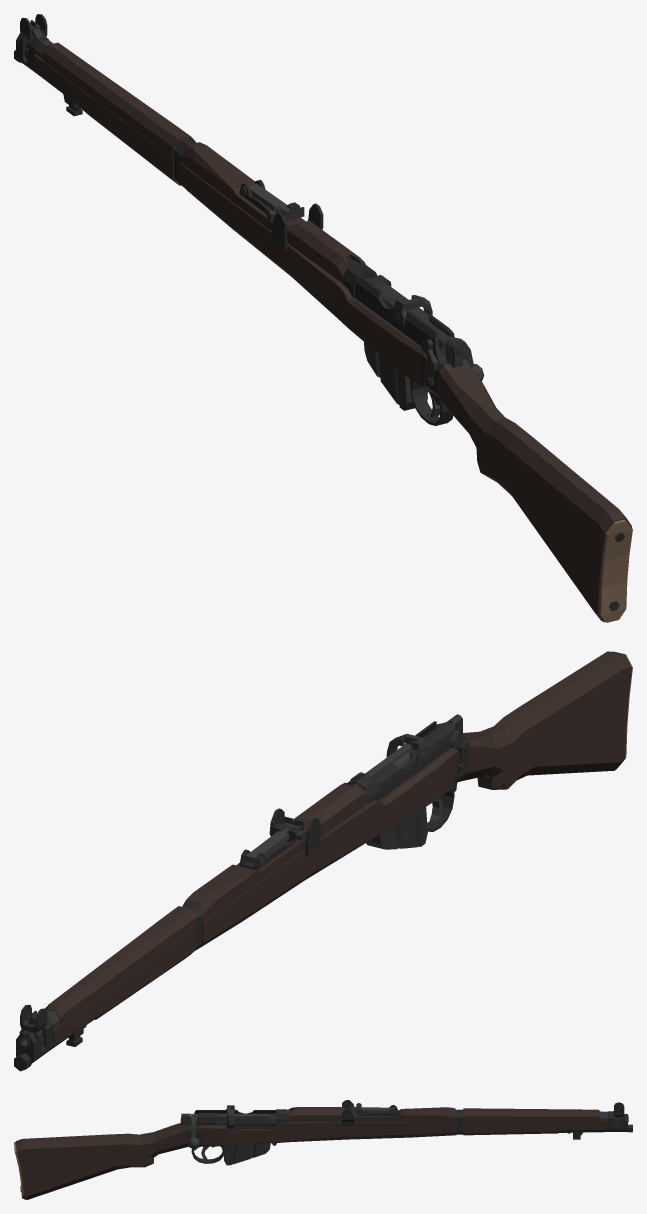
3 renders of one model, top to bottom at view 1: azimuth 30°, elevation 25°; view 2: azimuth 150°, elevation 25°; view 3: azimuth 270°, elevation 25°, orthographic. The views are drawn at different scales.
Parts seen in each view (by area): view 1: smle-mk3; view 2: smle-mk3; view 3: smle-mk3.
Part boxes in pixels (left/top/right/bottom): smle-mk3: left=14, top=14, right=632, bottom=622; smle-mk3: left=14, top=651, right=632, bottom=1071; smle-mk3: left=14, top=1100, right=632, bottom=1199.
Bounding box in the file's own units: 0.0596 × 0.1889 × 1.13.
